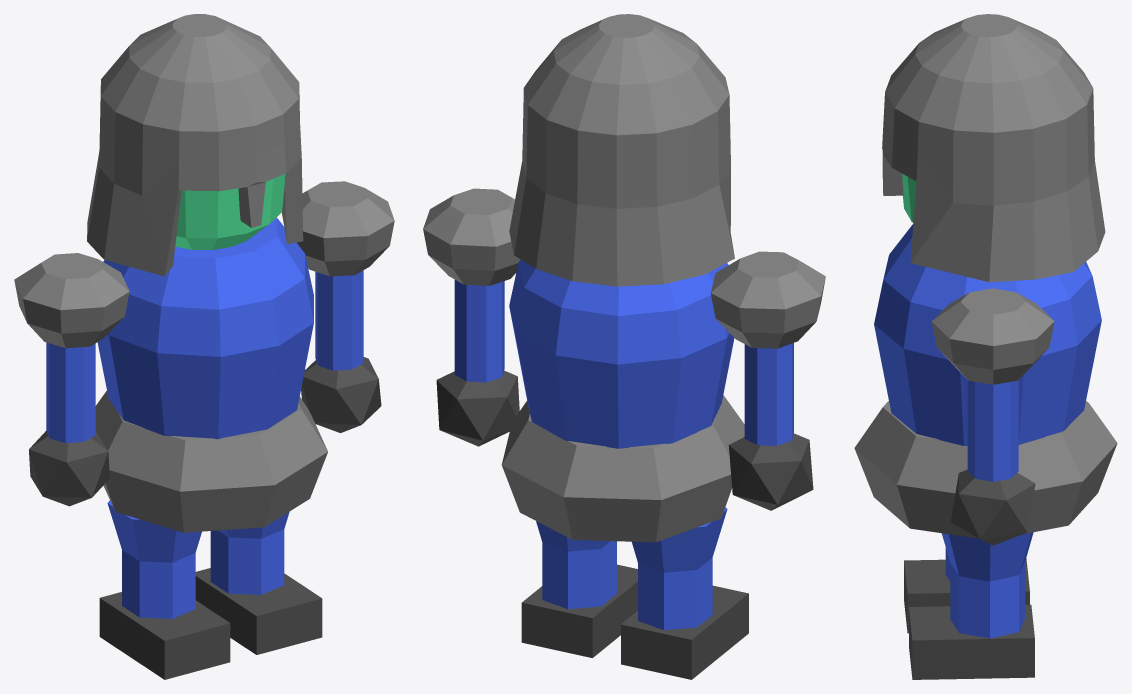
Rendered from test_soldier_02.2.fbx.
3 views of the same model, side by side, from view 1: azimuth 30°, elevation 25°; view 2: azimuth 150°, elevation 25°; view 3: azimuth 270°, elevation 25° (orthographic). The views are drawn at different scales.
Visible parts, largest first — view 1: Cylinder, Cylinder.006, Icosphere, Icosphere.001, Cylinder.001, Cube.001; view 2: Cylinder, Cylinder.006, Icosphere, Icosphere.001, Cylinder.001, Cube.001; view 3: Cylinder.006, Cylinder, Icosphere.001, Cube.001, Cylinder.001.
Boxes of the visible parts, left/top/right/bottom form: Cylinder: left=95, top=217, right=327, bottom=532; Cylinder.006: left=87, top=14, right=303, bottom=276; Icosphere: left=14, top=253, right=129, bottom=506; Icosphere.001: left=281, top=181, right=394, bottom=432; Cylinder.001: left=99, top=500, right=230, bottom=679; Cube.001: left=195, top=512, right=322, bottom=654; Cylinder: left=501, top=259, right=744, bottom=542; Cylinder.006: left=509, top=14, right=734, bottom=286; Icosphere: left=710, top=251, right=825, bottom=510; Icosphere.001: left=423, top=188, right=520, bottom=446; Cylinder.001: left=621, top=507, right=748, bottom=679; Cube.001: left=521, top=521, right=637, bottom=657; Cylinder.006: left=882, top=14, right=1105, bottom=282; Cylinder: left=854, top=224, right=1117, bottom=538; Icosphere.001: left=931, top=288, right=1054, bottom=545; Cube.001: left=909, top=532, right=1034, bottom=679; Cylinder.001: left=904, top=547, right=1029, bottom=633.
Bounding box in the file's own units: 204 × 316 × 123.
